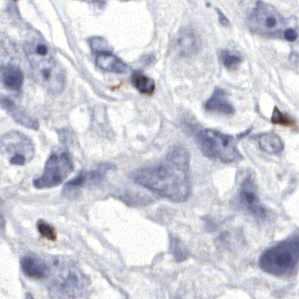Lymphocyte: (37, 219, 57, 242)
